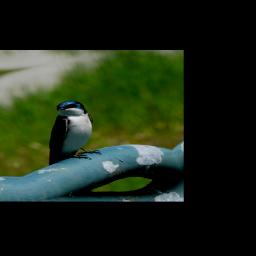Swallow: (22, 97, 112, 167)
